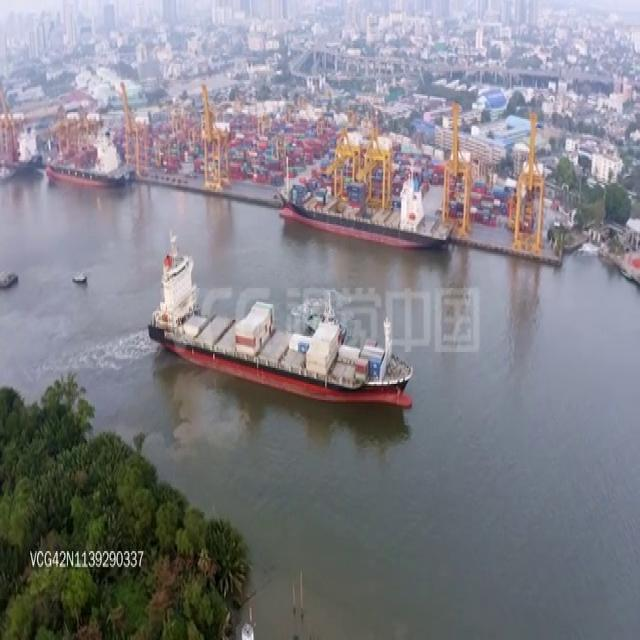cargoship: (149, 234, 412, 409), (275, 155, 447, 254), (48, 131, 126, 183)
